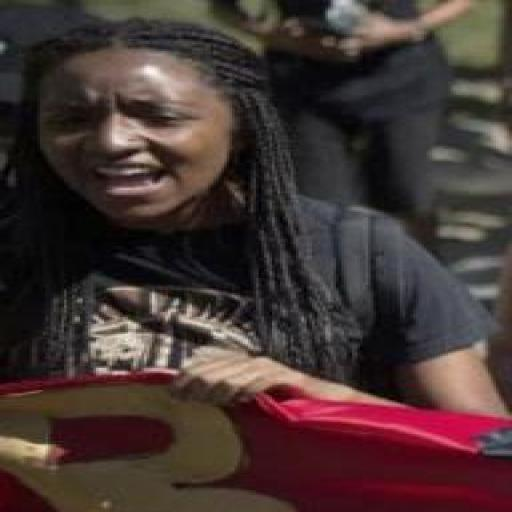person: (0, 21, 386, 403), (270, 0, 471, 249)
